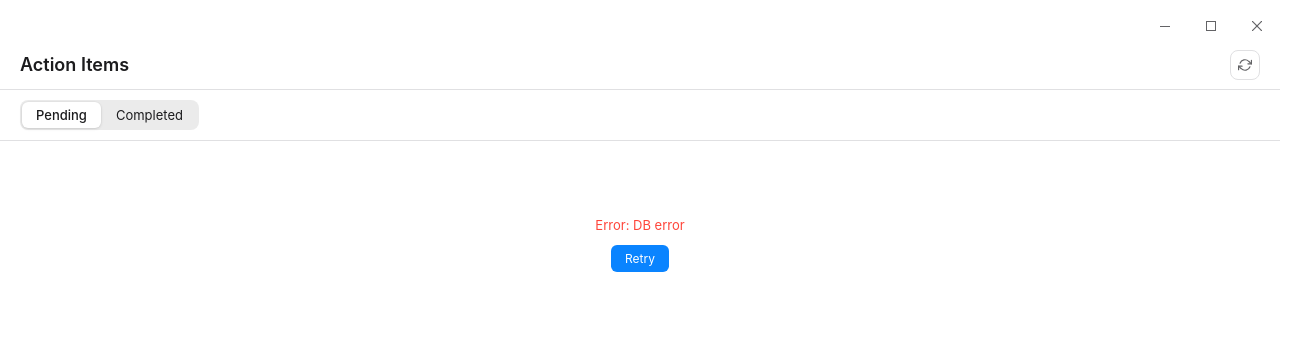
Test: ActionsView.svelte › shows error state and retry
Step 1. Click the button "Retry" → click(640, 258), box x1=611 y1=245 x2=669 y2=272
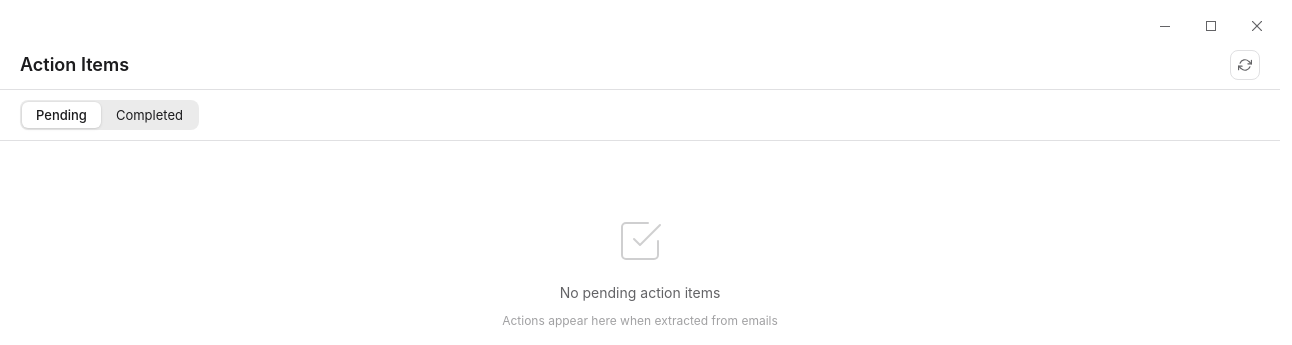
Check: the text "No pending action items" is shown, box x1=560 y1=284 x2=720 y2=301
